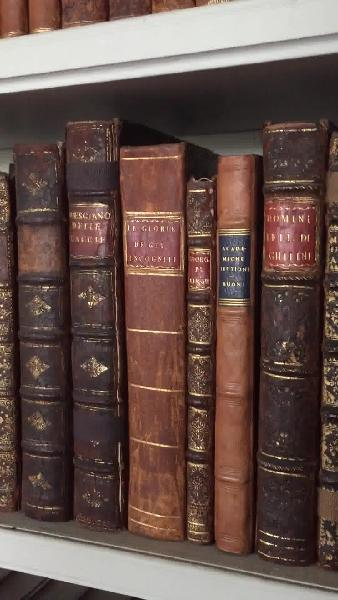Aa6-31: (11, 136, 82, 522)
Aa6-32: (66, 117, 126, 538)
Aa6-33: (122, 143, 194, 545)
Aa6-34: (182, 166, 225, 551)
Aa6-35: (213, 149, 264, 566)
Aa6-36: (259, 125, 317, 573)
